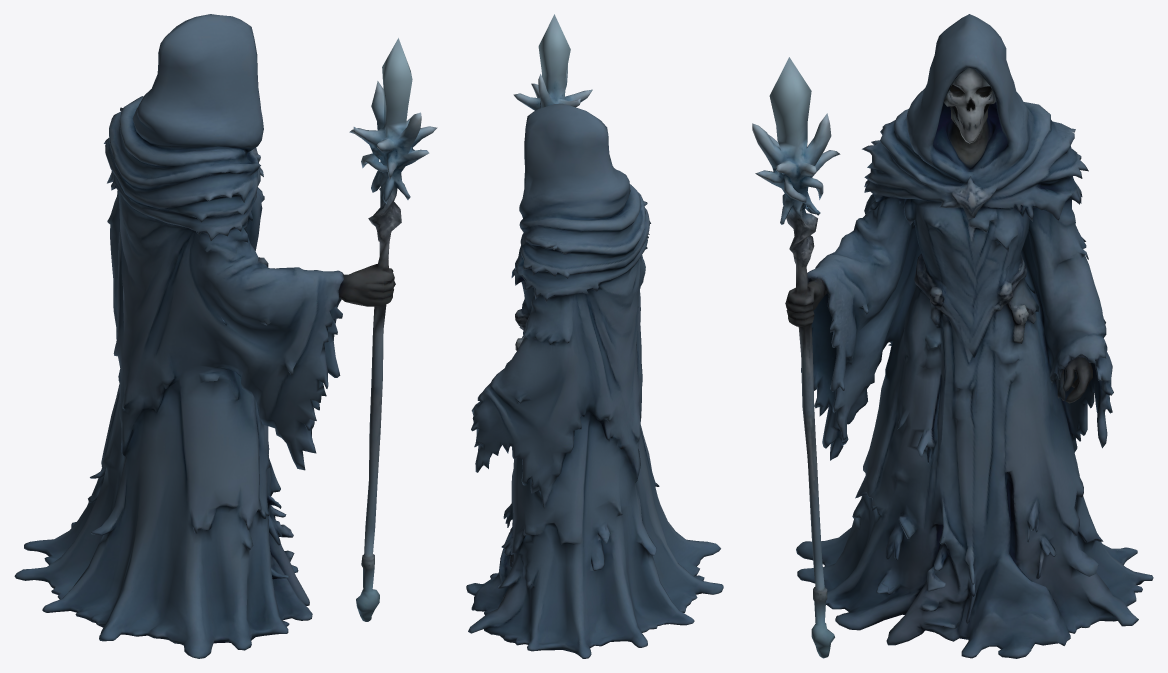
3 renders of one model, left to right at view 1: azimuth 30°, elevation 25°; view 2: azimuth 150°, elevation 25°; view 3: azimuth 270°, elevation 25°, orthographic. The views are drawn at different scales.
Parts seen in each view (by area): view 1: tripo_node_5e4d63a3-873a-475d-815a-803a37184363; view 2: tripo_node_5e4d63a3-873a-475d-815a-803a37184363; view 3: tripo_node_5e4d63a3-873a-475d-815a-803a37184363.
Boxes of the visible parts, box(x1,y1,x2,y2) form: tripo_node_5e4d63a3-873a-475d-815a-803a37184363: box(14, 14, 437, 658); tripo_node_5e4d63a3-873a-475d-815a-803a37184363: box(466, 14, 723, 658); tripo_node_5e4d63a3-873a-475d-815a-803a37184363: box(752, 14, 1153, 658).
Size of the model in its own units: 0.5205 by 1 by 0.5969.
Materials: 1 (1 with a texture image).
